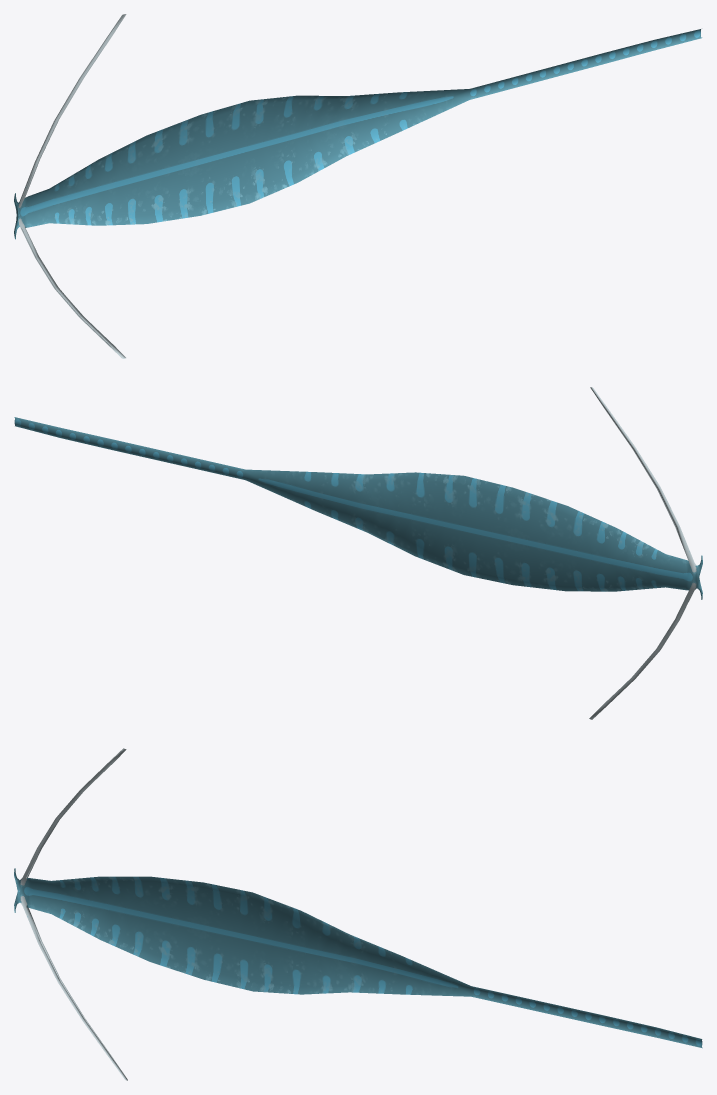
File: gossamerWorms_temp.fbx
3 views of the same model, one above another, from view 1: azimuth 30°, elevation 25°; view 2: azimuth 150°, elevation 25°; view 3: azimuth 330°, elevation 25° (orthographic). The views are drawn at different scales.
Parts seen in each view (by area): view 1: gossamerWorm.003; view 2: gossamerWorm.003; view 3: gossamerWorm.003.
Boxes of the visible parts, <box> form: gossamerWorm.003: <box>14,14,702,358</box>; gossamerWorm.003: <box>14,387,702,719</box>; gossamerWorm.003: <box>14,748,702,1080</box>.
Size of the model in its own units: 0.422 by 0.1982 by 0.0161.
1 material, 1 textured.
